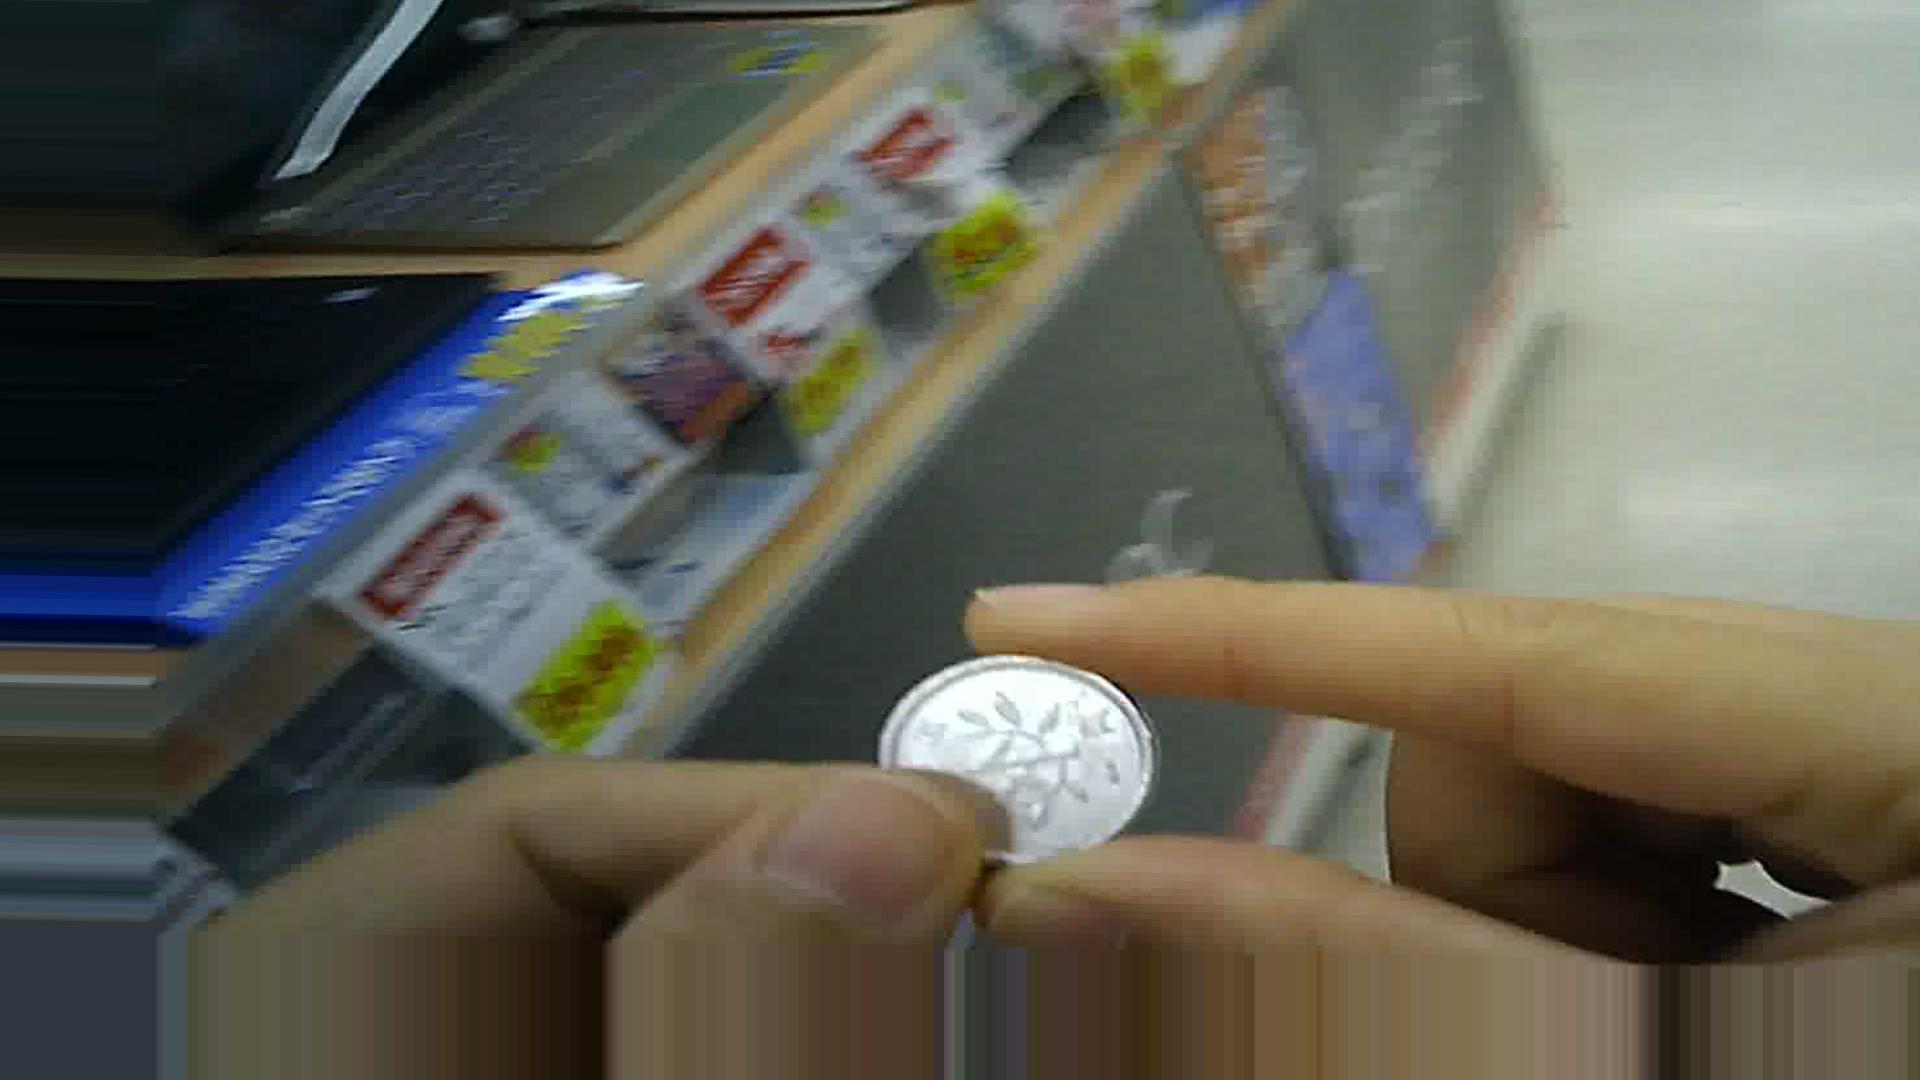1 Yen: (868, 621, 1147, 855)
